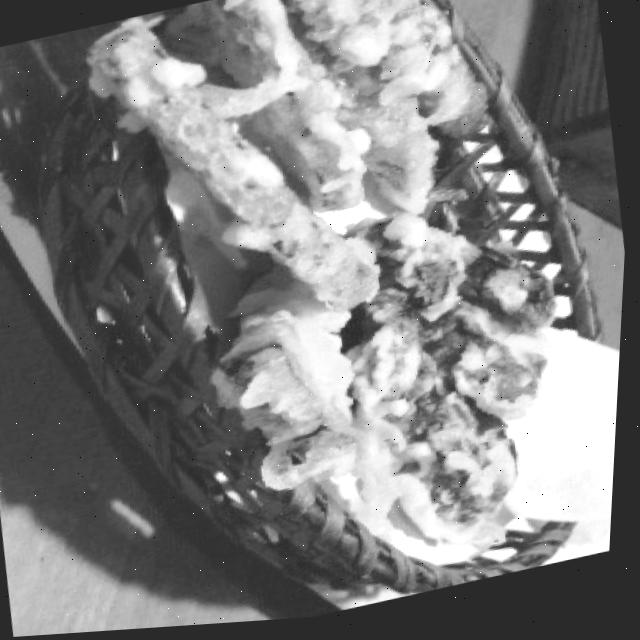蔬菜料理: (65, 0, 630, 635)
